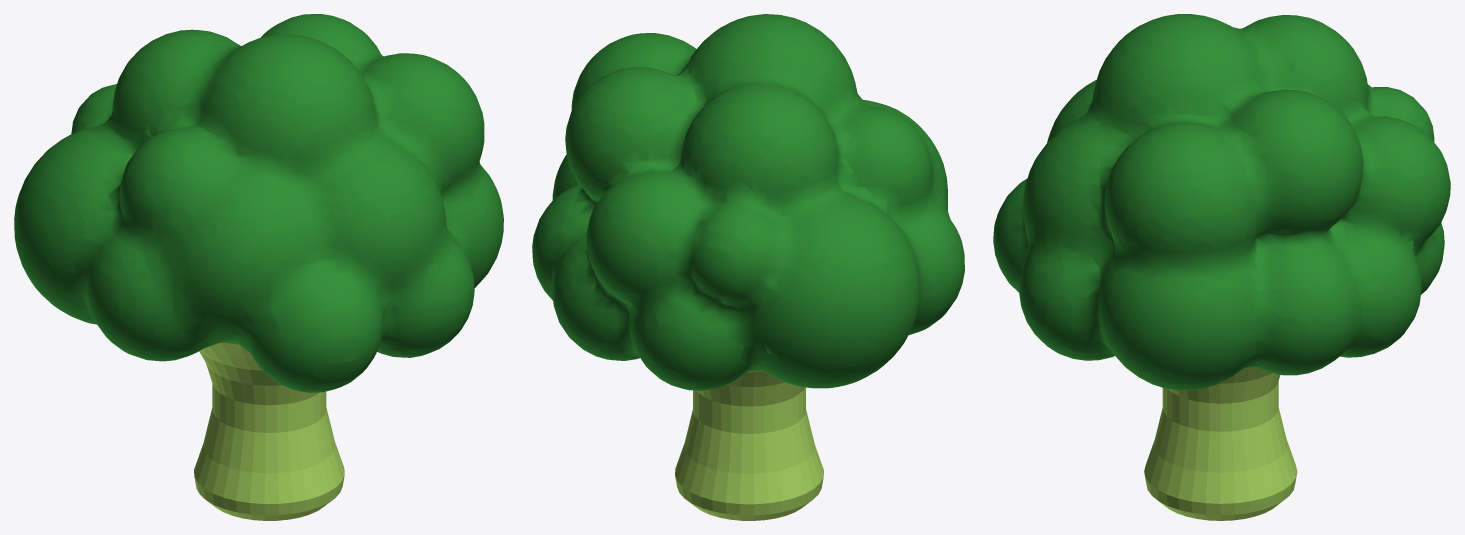
Rendered from broccoli.glb.
3 renders of one model, left to right at view 1: azimuth 30°, elevation 25°; view 2: azimuth 150°, elevation 25°; view 3: azimuth 270°, elevation 25°, orthographic. The views are drawn at different scales.
Parts seen in each view (by area): view 1: Mball.020; view 2: Mball.020; view 3: Mball.020.
Part boxes in pixels (bbox=[...]): Mball.020: bbox=[14, 14, 503, 520]; Mball.020: bbox=[532, 14, 964, 520]; Mball.020: bbox=[993, 14, 1450, 520].
Bounding box in the file's own units: 1.91 × 2.12 × 1.84.
